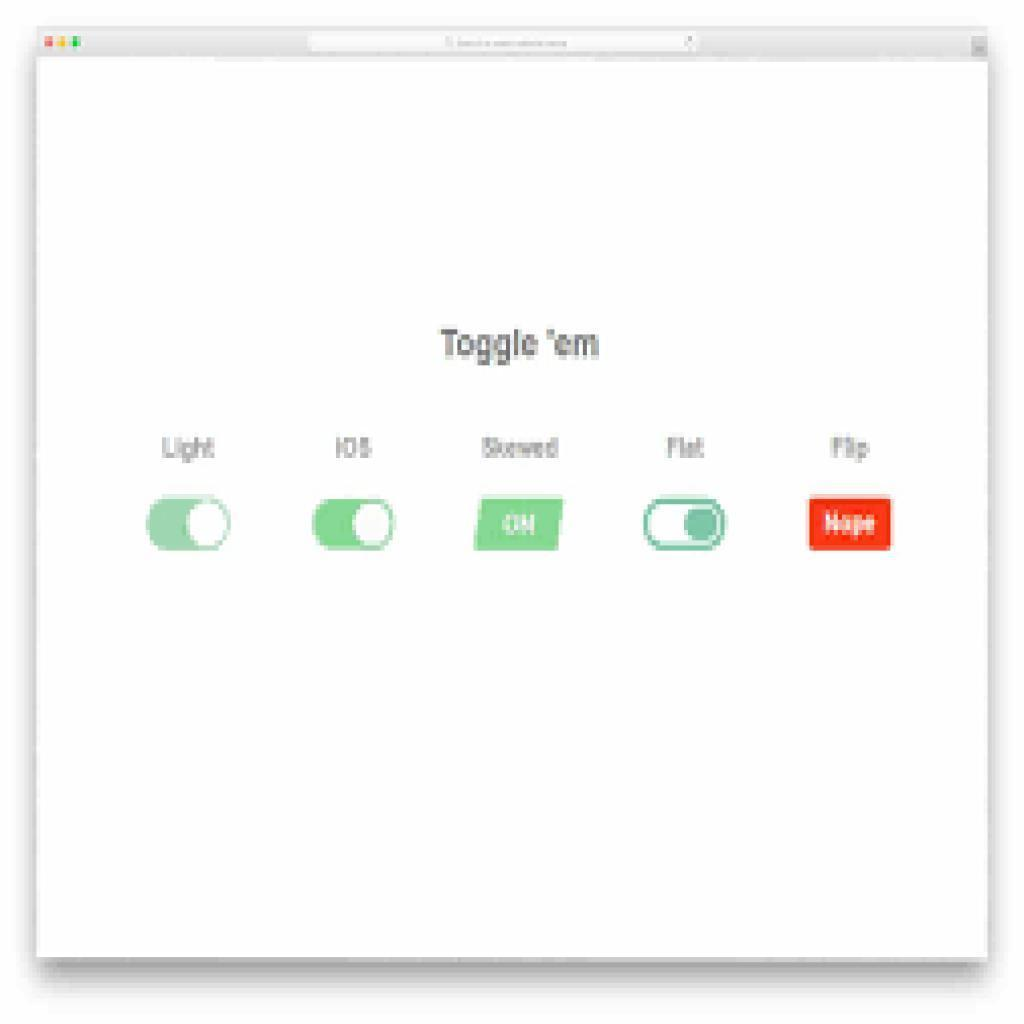switch: (145, 494, 233, 553), (312, 497, 399, 552), (643, 497, 727, 553)
